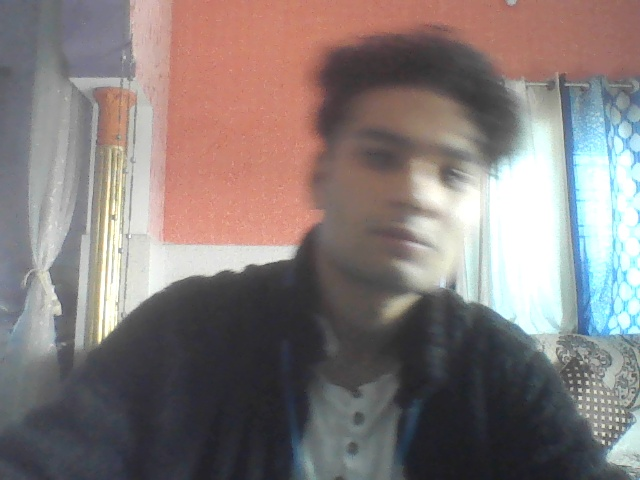real: (306, 34, 501, 311)
